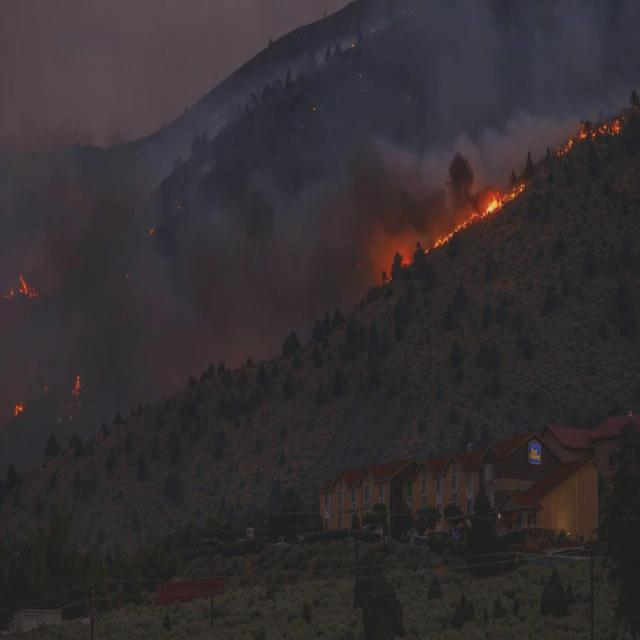Fire: (437, 183, 522, 244), (583, 118, 619, 140), (7, 276, 37, 298), (70, 372, 82, 394), (556, 139, 570, 157), (15, 401, 24, 419)
